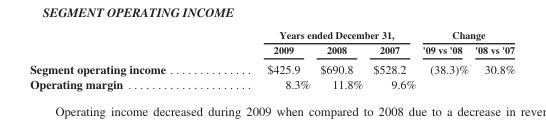table: (29, 28, 514, 90)
table column: (29, 28, 215, 90), (215, 28, 314, 90), (314, 28, 367, 90), (418, 28, 471, 90), (367, 28, 418, 90), (471, 28, 514, 90)
table column header: (29, 28, 514, 58)
table row: (29, 58, 514, 76), (29, 42, 514, 58), (29, 28, 514, 42), (29, 76, 514, 90)
table spanning cell: (215, 28, 418, 42), (418, 28, 514, 42)
